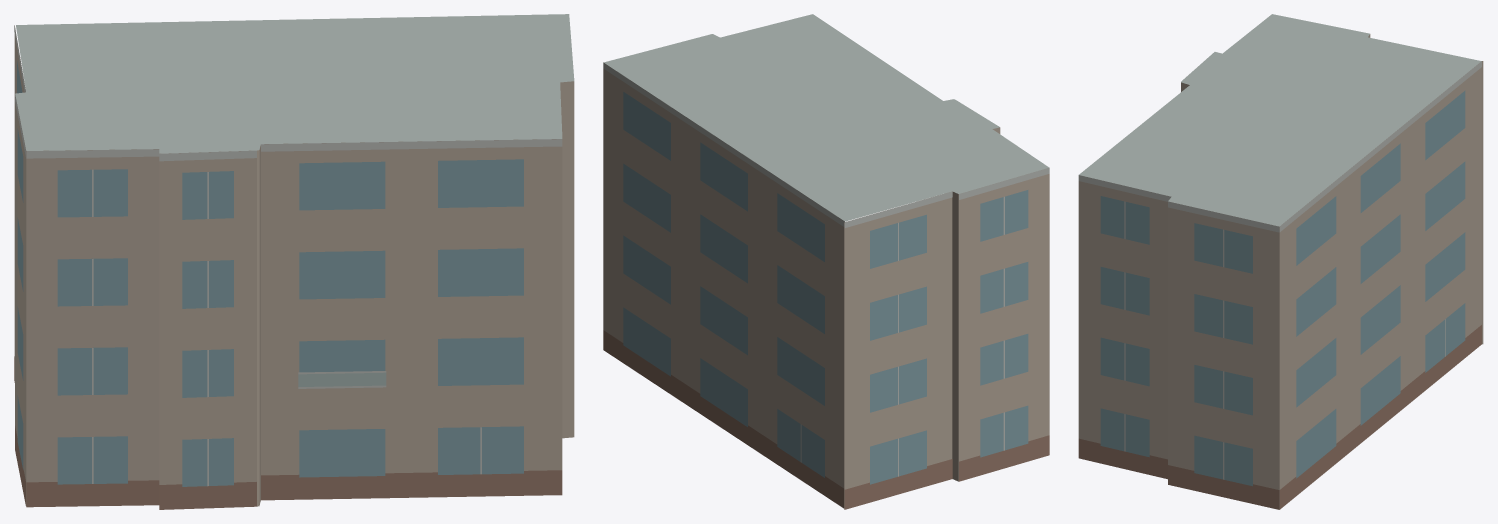
File: survey-upis-32771841.glb
3 views of the same model, side by side, from view 1: azimuth 30°, elevation 25°; view 2: azimuth 150°, elevation 25°; view 3: azimuth 270°, elevation 25° (orthographic). The views are drawn at different scales.
Visible parts, largest first — view 1: survey-upis-32771841.tmp; view 2: survey-upis-32771841.tmp; view 3: survey-upis-32771841.tmp.
Part boxes in pixels (x1,y1,x2,y2): survey-upis-32771841.tmp: [14, 14, 574, 509]; survey-upis-32771841.tmp: [603, 14, 1049, 509]; survey-upis-32771841.tmp: [1078, 14, 1483, 509].
Bounding box in the file's own units: 18.52 × 11.5 × 14.9.
